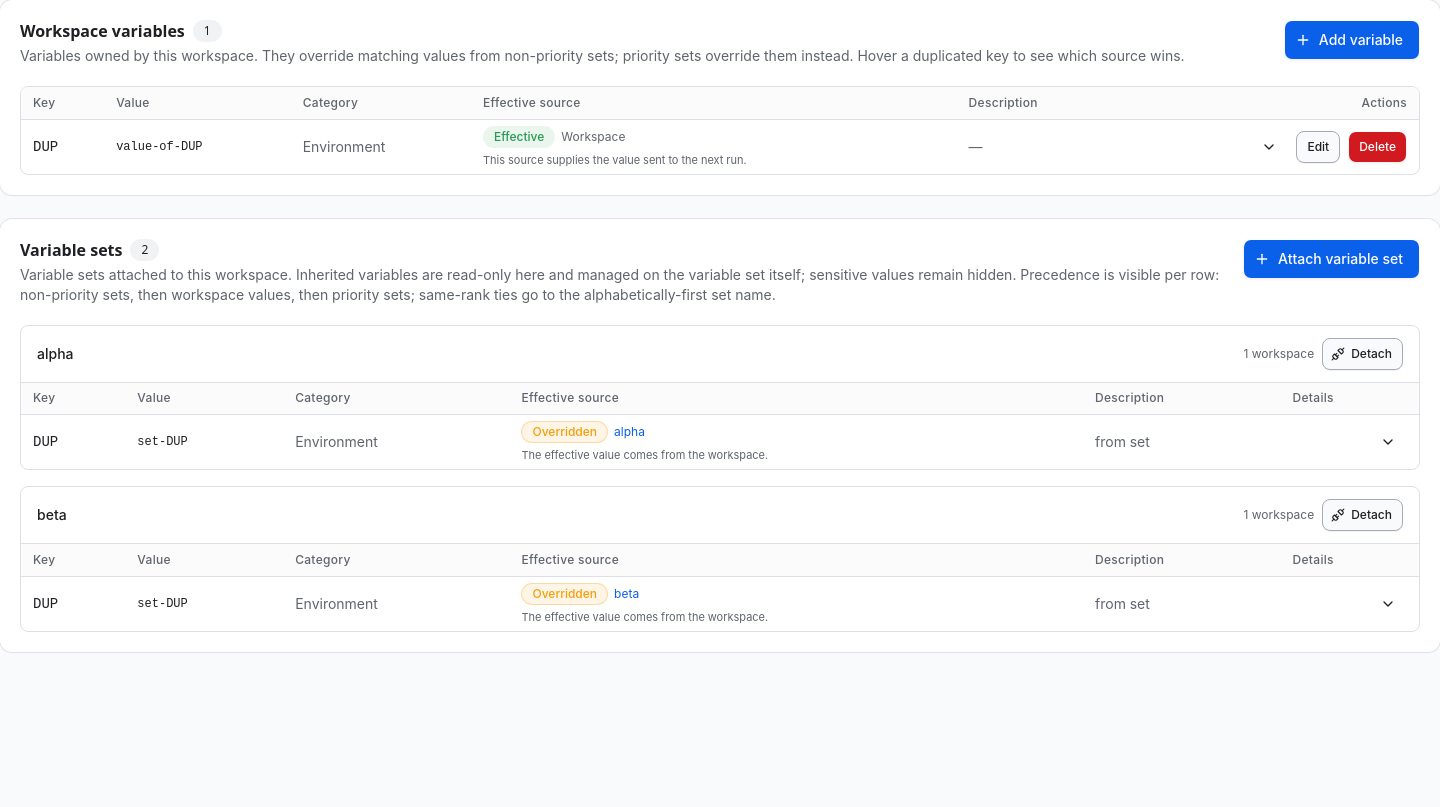
Test: names the winning source on duplicated keys
Expected: the text "DUP" is shown 3 times, [33,138,58,154]; [33,434,58,450]; [33,596,58,612]
Step 1. Click the button named "Show precedence for DUP" in the row of "value-of-DUP" → [1269, 146], box [1250,130,1288,162]
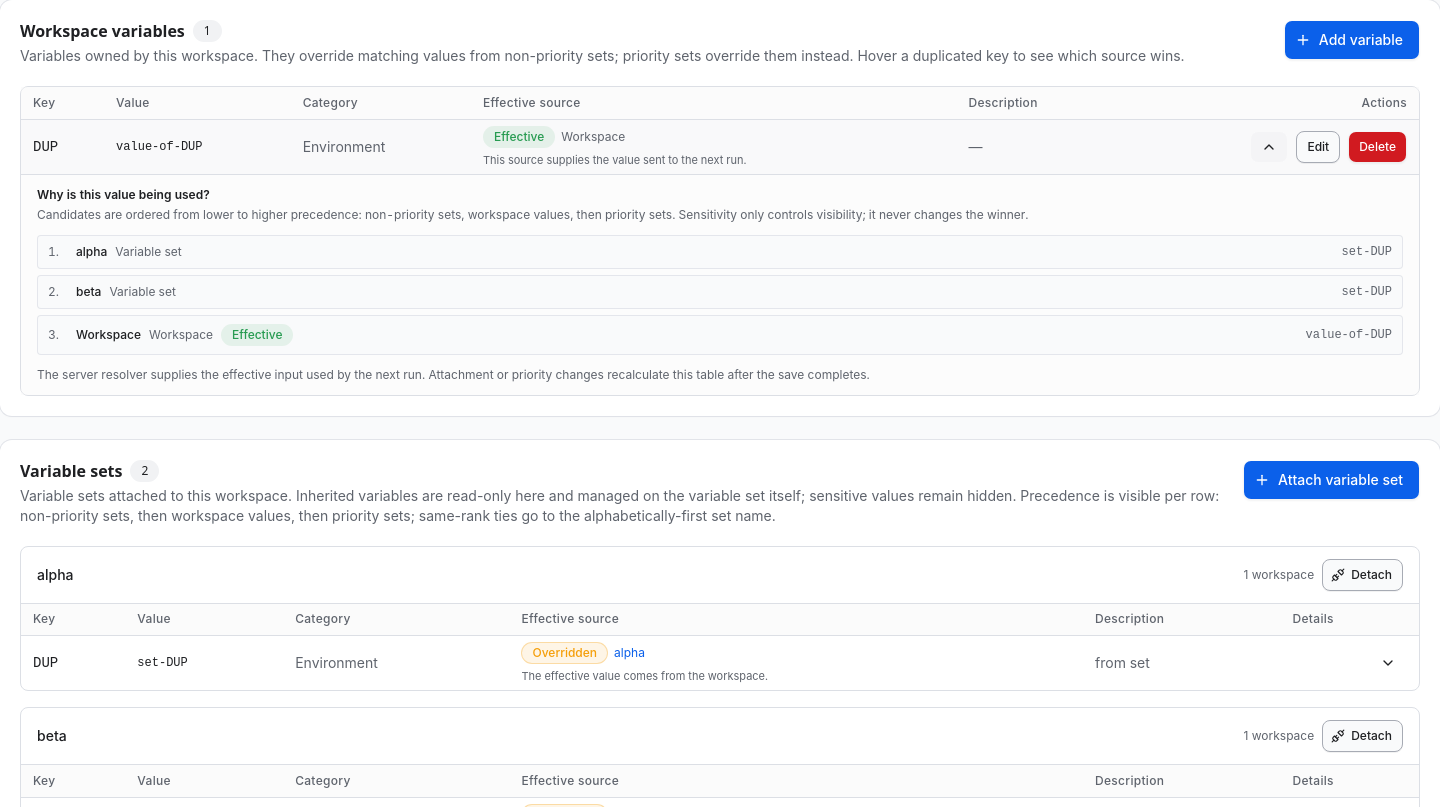
Now the text "Why is this value being used?" is shown, box [37,186,210,202]
Now the text "Candidates are ordered from lower to higher precedence" is shown, box [37,206,1028,222]
Now the text "alpha" below "Why is this value being used?" is shown, box [76,244,107,258]
